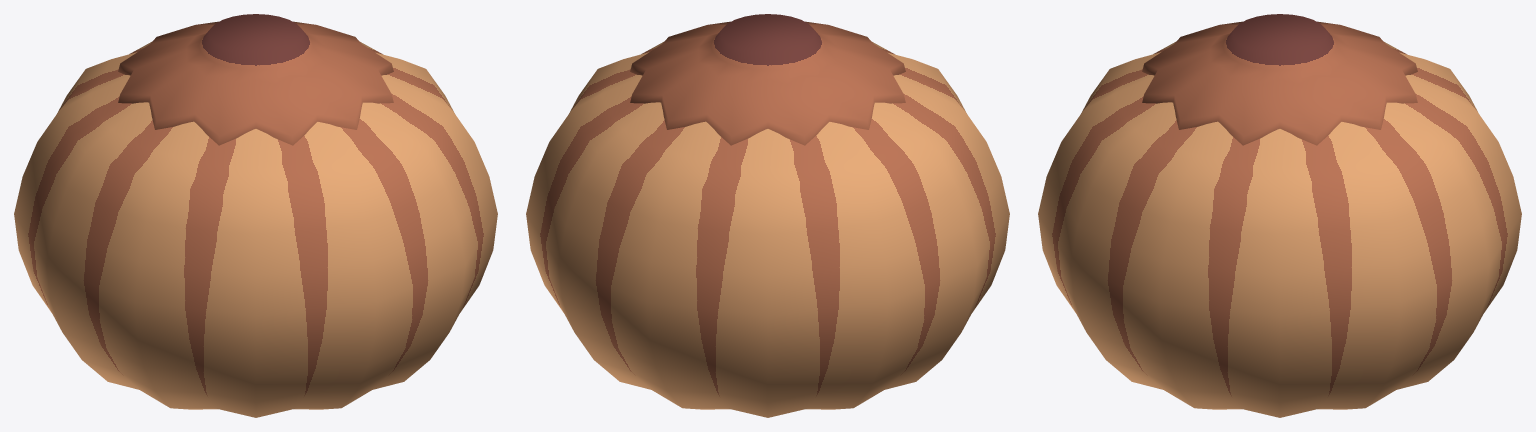
Rendered from Cebolla.fbx.
3 views of the same model, side by side, from view 1: azimuth 30°, elevation 25°; view 2: azimuth 150°, elevation 25°; view 3: azimuth 270°, elevation 25° (orthographic).
Parts seen in each view (by area): view 1: Cebolla; view 2: Cebolla; view 3: Cebolla.
Boxes of the visible parts, <box> form: Cebolla: <box>14,14,497,417</box>; Cebolla: <box>526,14,1009,417</box>; Cebolla: <box>1038,14,1521,417</box>.
Size of the model in its own units: 31.04 by 24.52 by 31.04.
